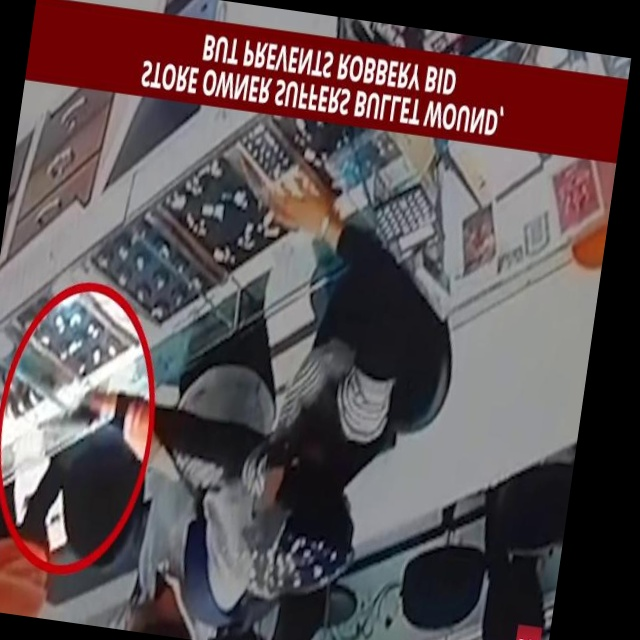gun: (34, 394, 103, 448)
